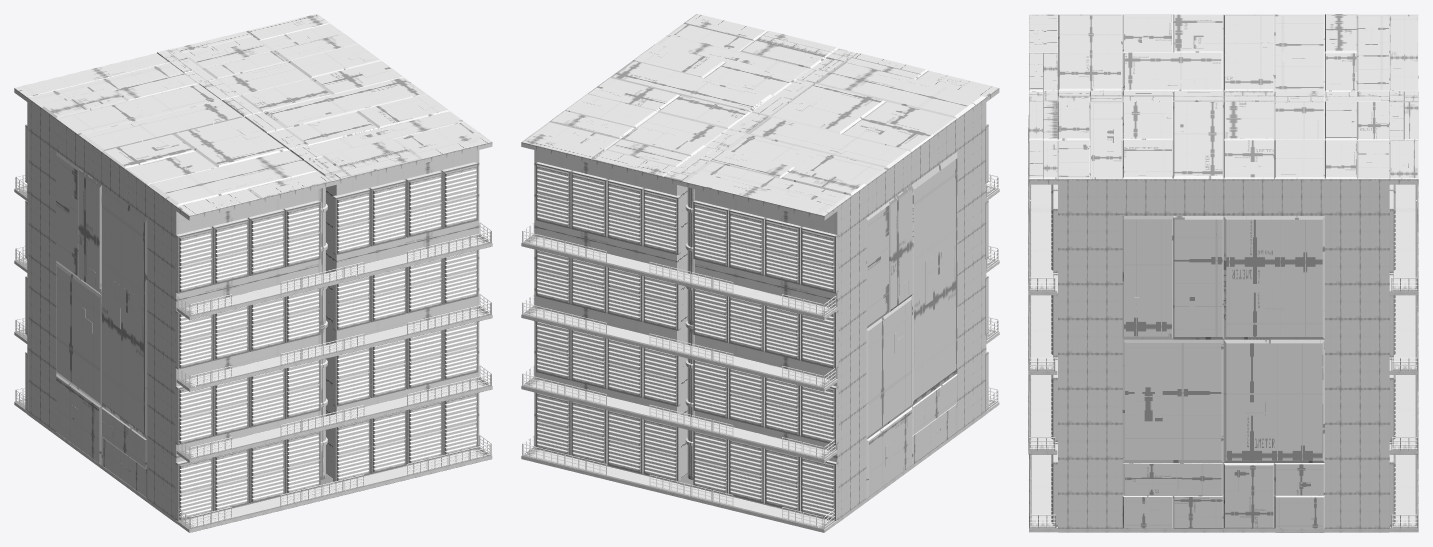
The model's file is DateCube_01_remade.fbx.
3 views of the same model, side by side, from view 1: azimuth 30°, elevation 25°; view 2: azimuth 150°, elevation 25°; view 3: azimuth 270°, elevation 25° (orthographic). The views are drawn at different scales.
Visible parts, largest first — view 1: DataCube_01; view 2: DataCube_01; view 3: DataCube_01.
Boxes of the visible parts, bbox=[...] form: DataCube_01: bbox=[14, 14, 492, 532]; DataCube_01: bbox=[521, 14, 999, 532]; DataCube_01: bbox=[1028, 14, 1418, 532].
Bounding box in the file's own units: 2020 × 2020 × 2003.
1 material, 1 textured.
